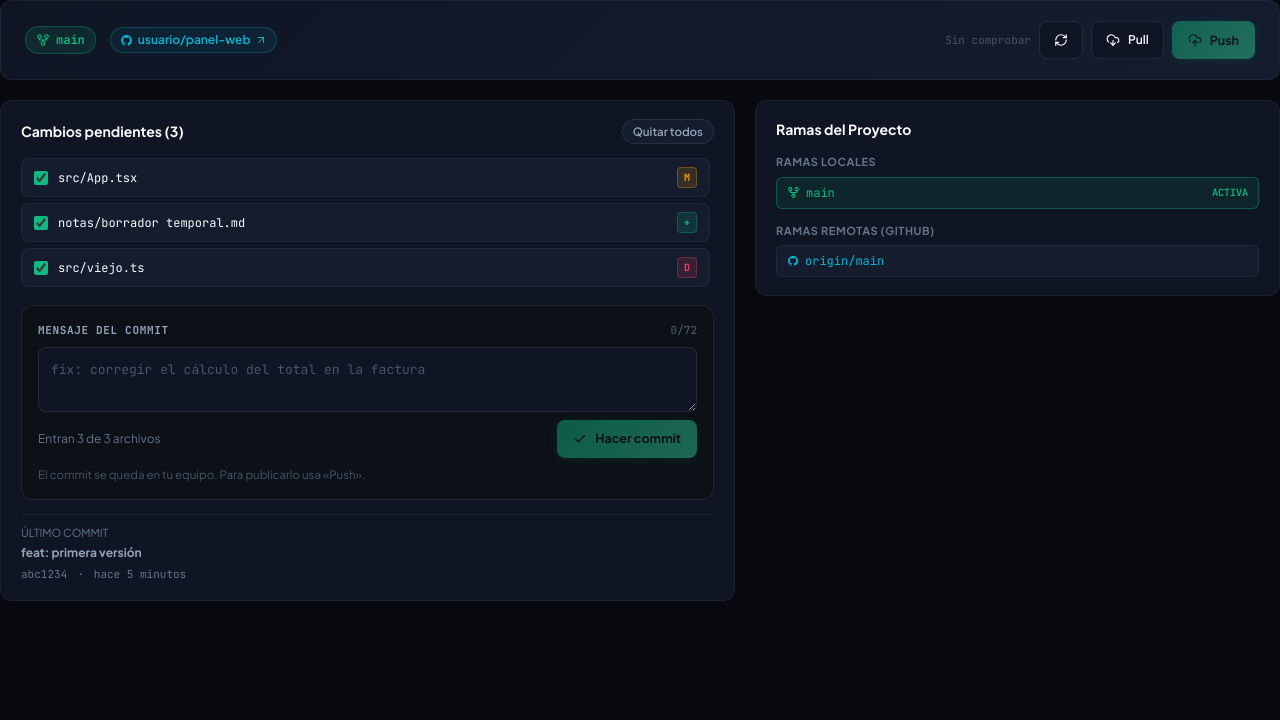
Test case: GitTab: selección de archivos › «Quitar todos» deja el botón inhabilitado aunque haya mensaje
Expected: the text "src/App.tsx" is shown, [58,170,137,186]
Type "fix: algo" into the text box labelled "Mensaje del commit".
click(368, 379); type("fix: algo")  # box [38,347,697,412]
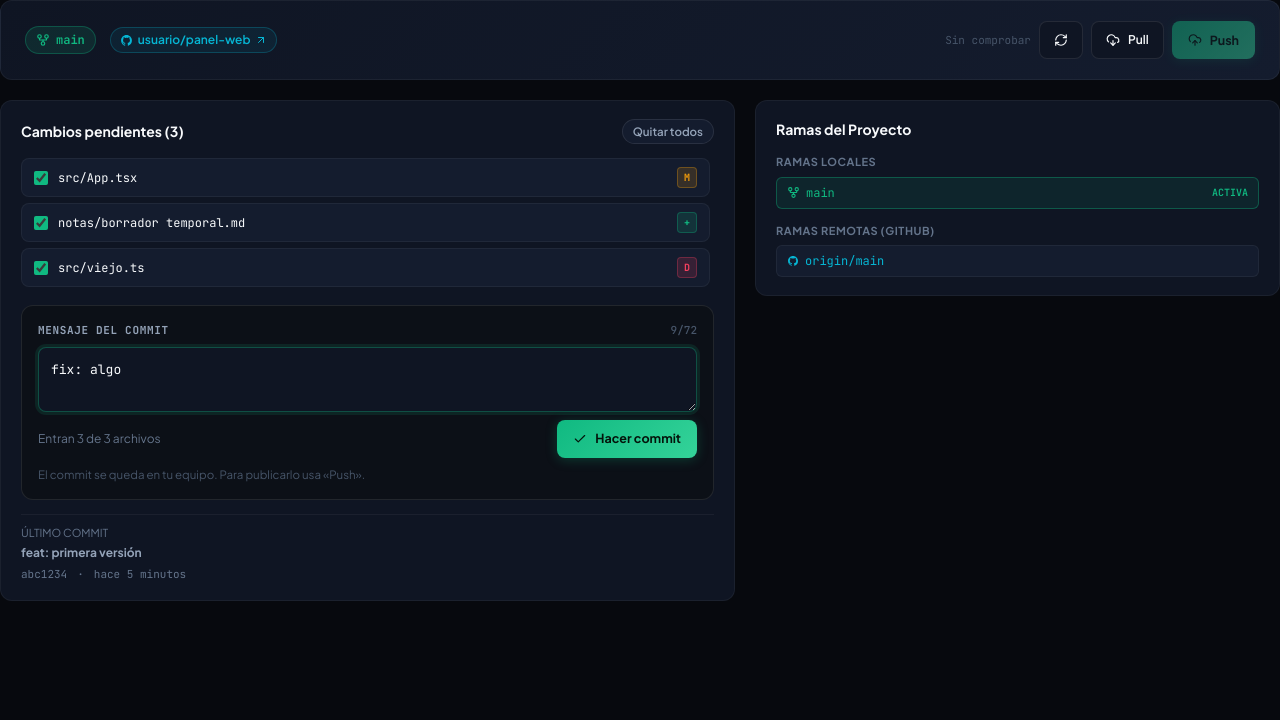
Click the button "Quitar todos".
click(668, 132)  # box [622,119,714,144]
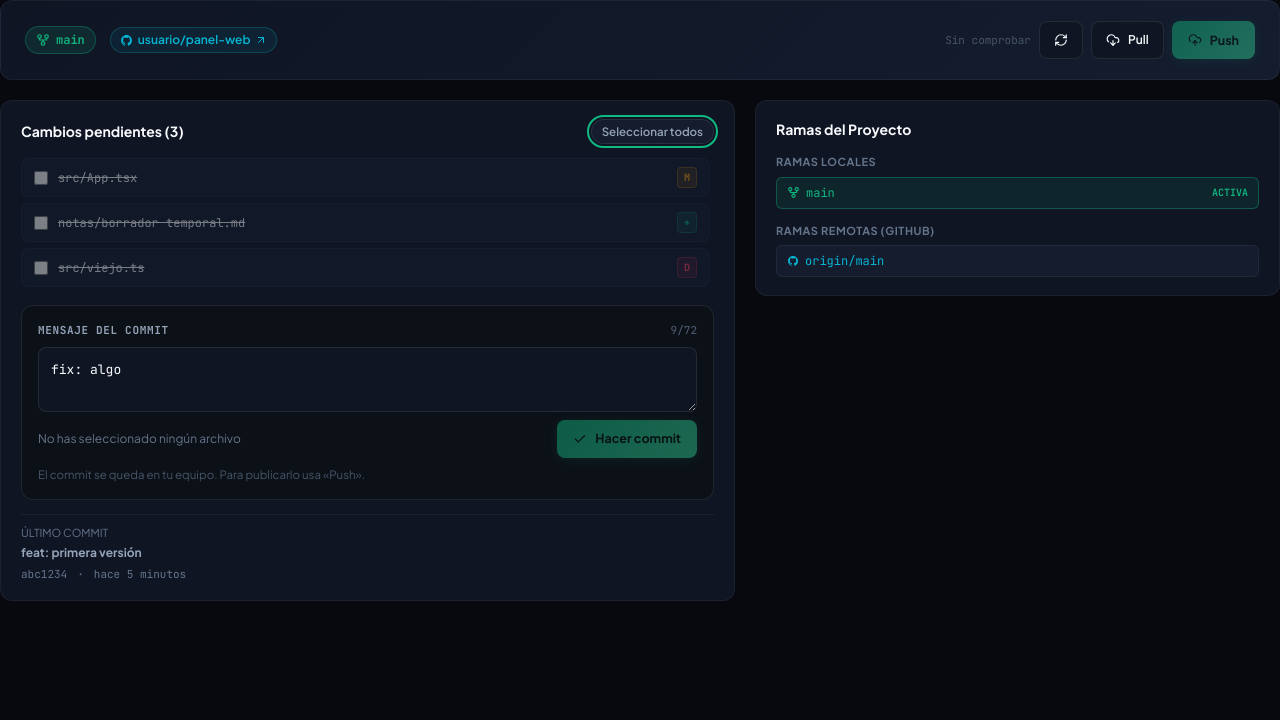
Expected: the text "No has seleccionado ningún archivo" is shown, [38,430,241,448]
Expected: the button "Hacer commit" is disabled, [557,420,697,458]
